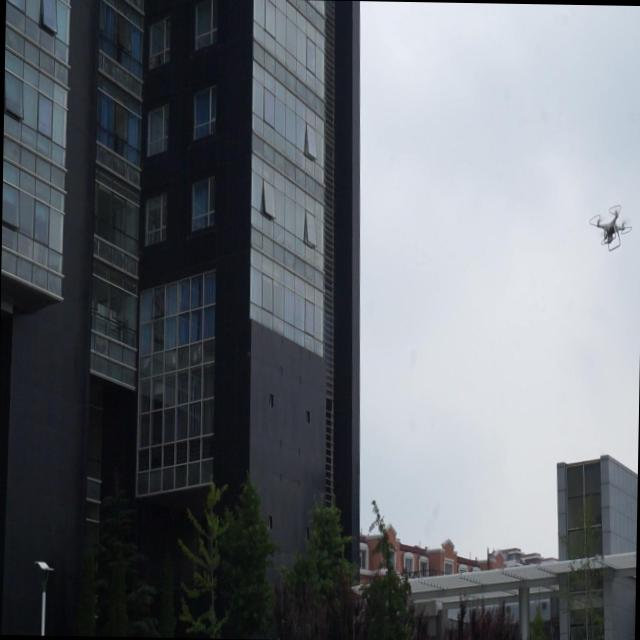drone: (588, 202, 632, 257)
